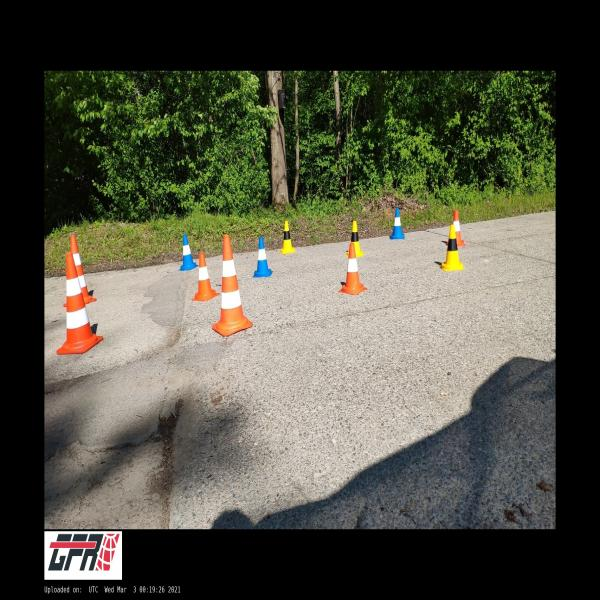blue_cone: (252, 236, 272, 278), (179, 235, 198, 270), (390, 208, 405, 240)
large_orange_cone: (56, 253, 103, 354), (212, 234, 253, 336), (64, 235, 96, 307)
orange_cone: (338, 243, 368, 295), (192, 252, 220, 301), (446, 209, 467, 246)
yellow_cone: (440, 224, 465, 271), (346, 220, 364, 258), (280, 220, 295, 254)
